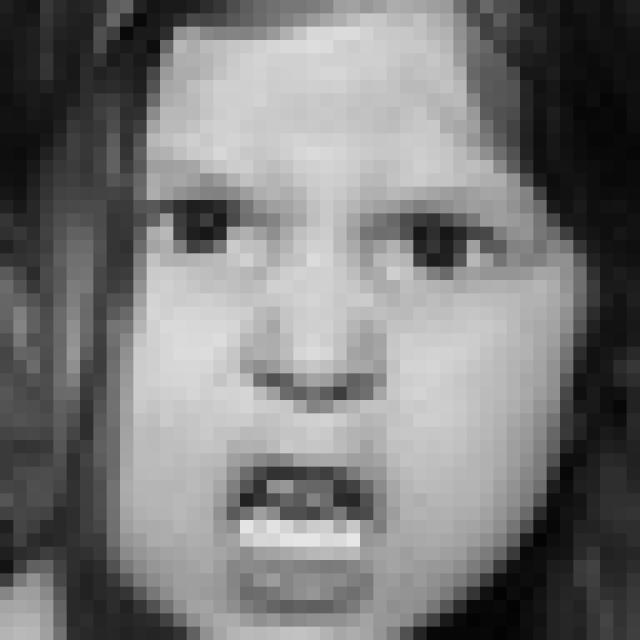angry: (128, 159, 541, 625)
